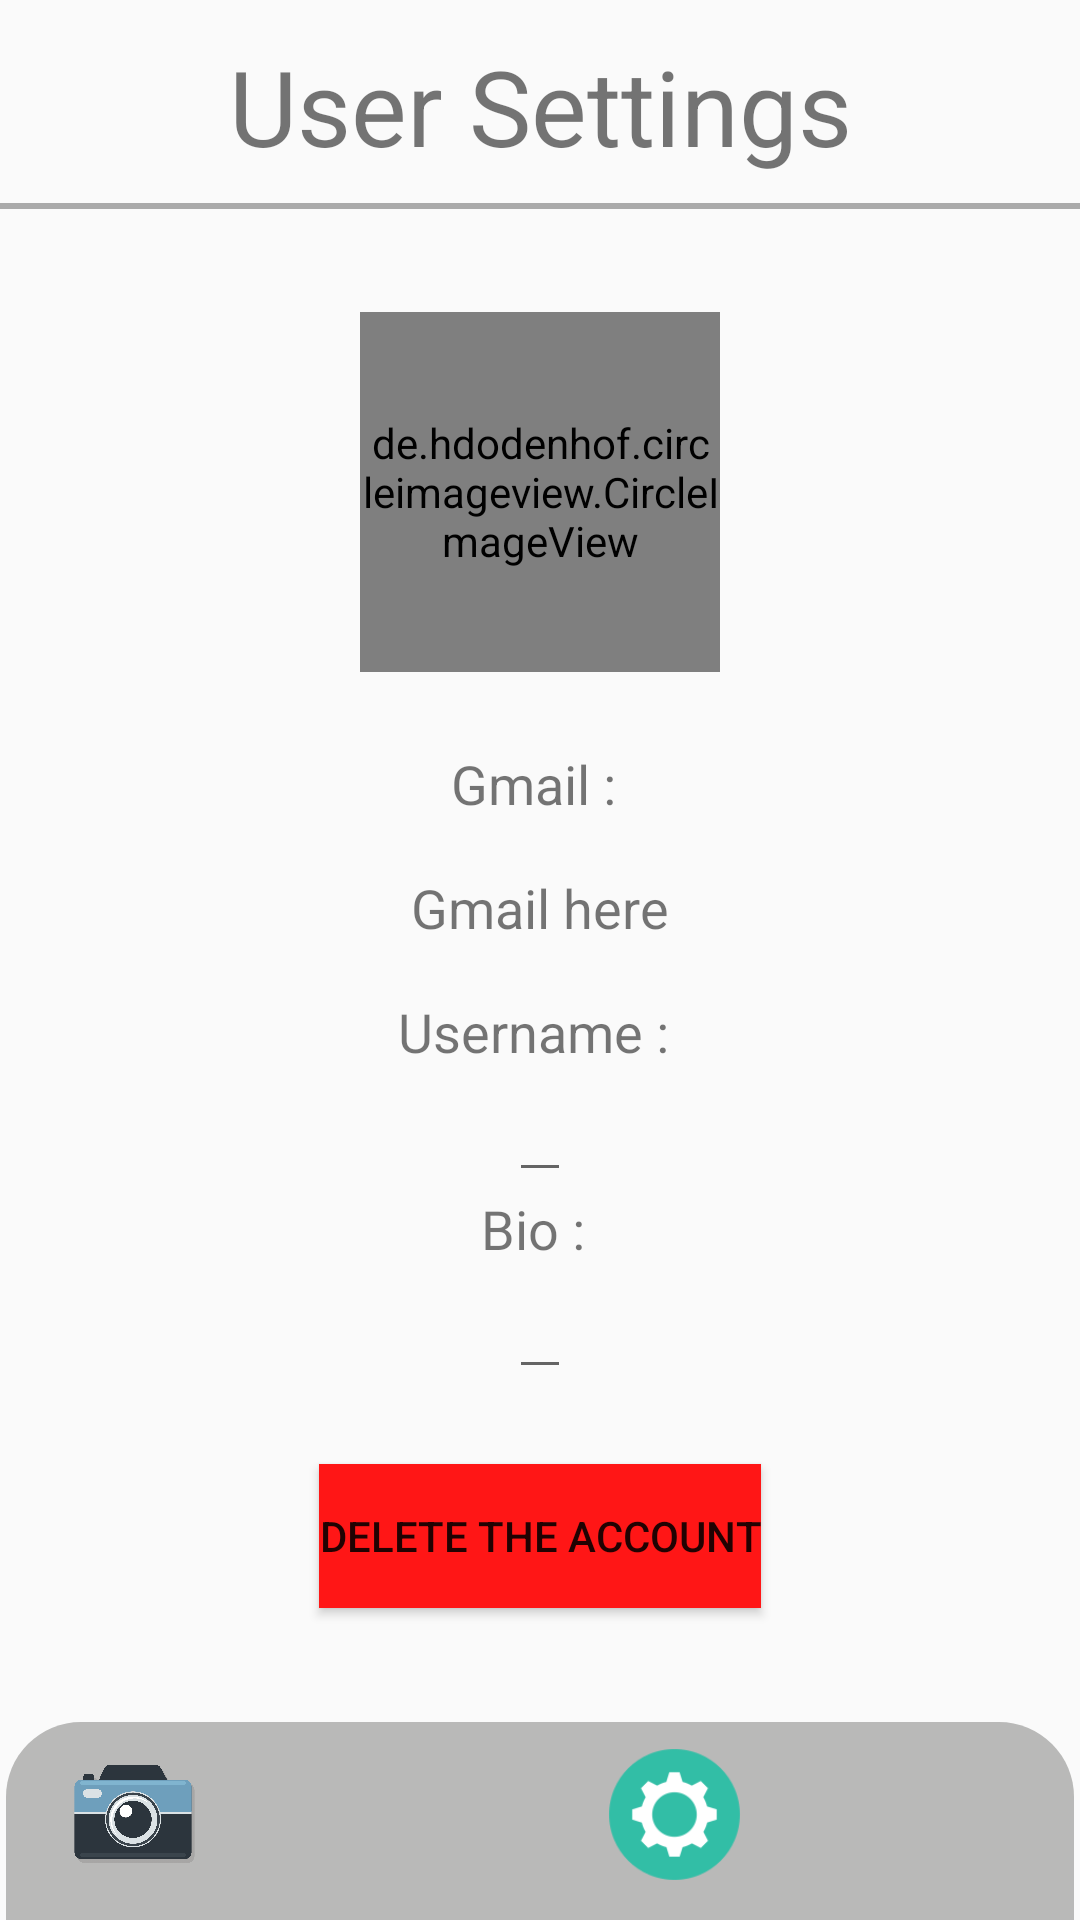

Named icons in this screenshot (1080 x 1920) and their bounding boxes, (x1, y1, x2, y2):
cam: (74, 1765, 192, 1859)
settings: (609, 1749, 740, 1880)
